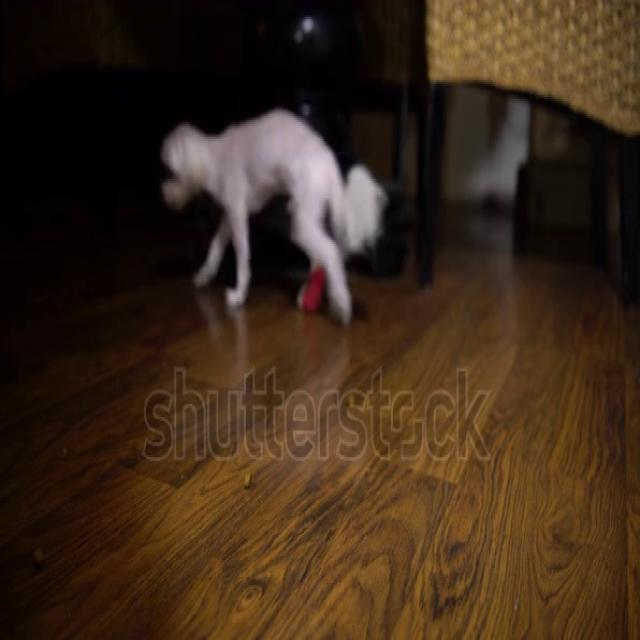injured-animals: (156, 101, 391, 329)
